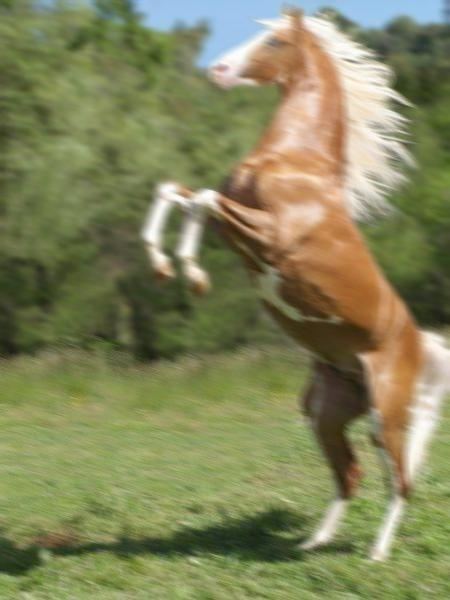horse: (141, 1, 450, 564)
